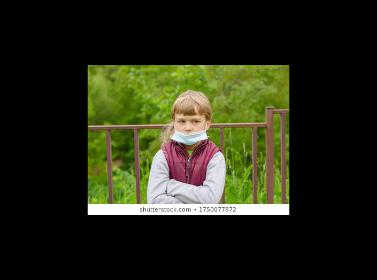mask_weared_incorrect: (176, 118, 203, 143)
